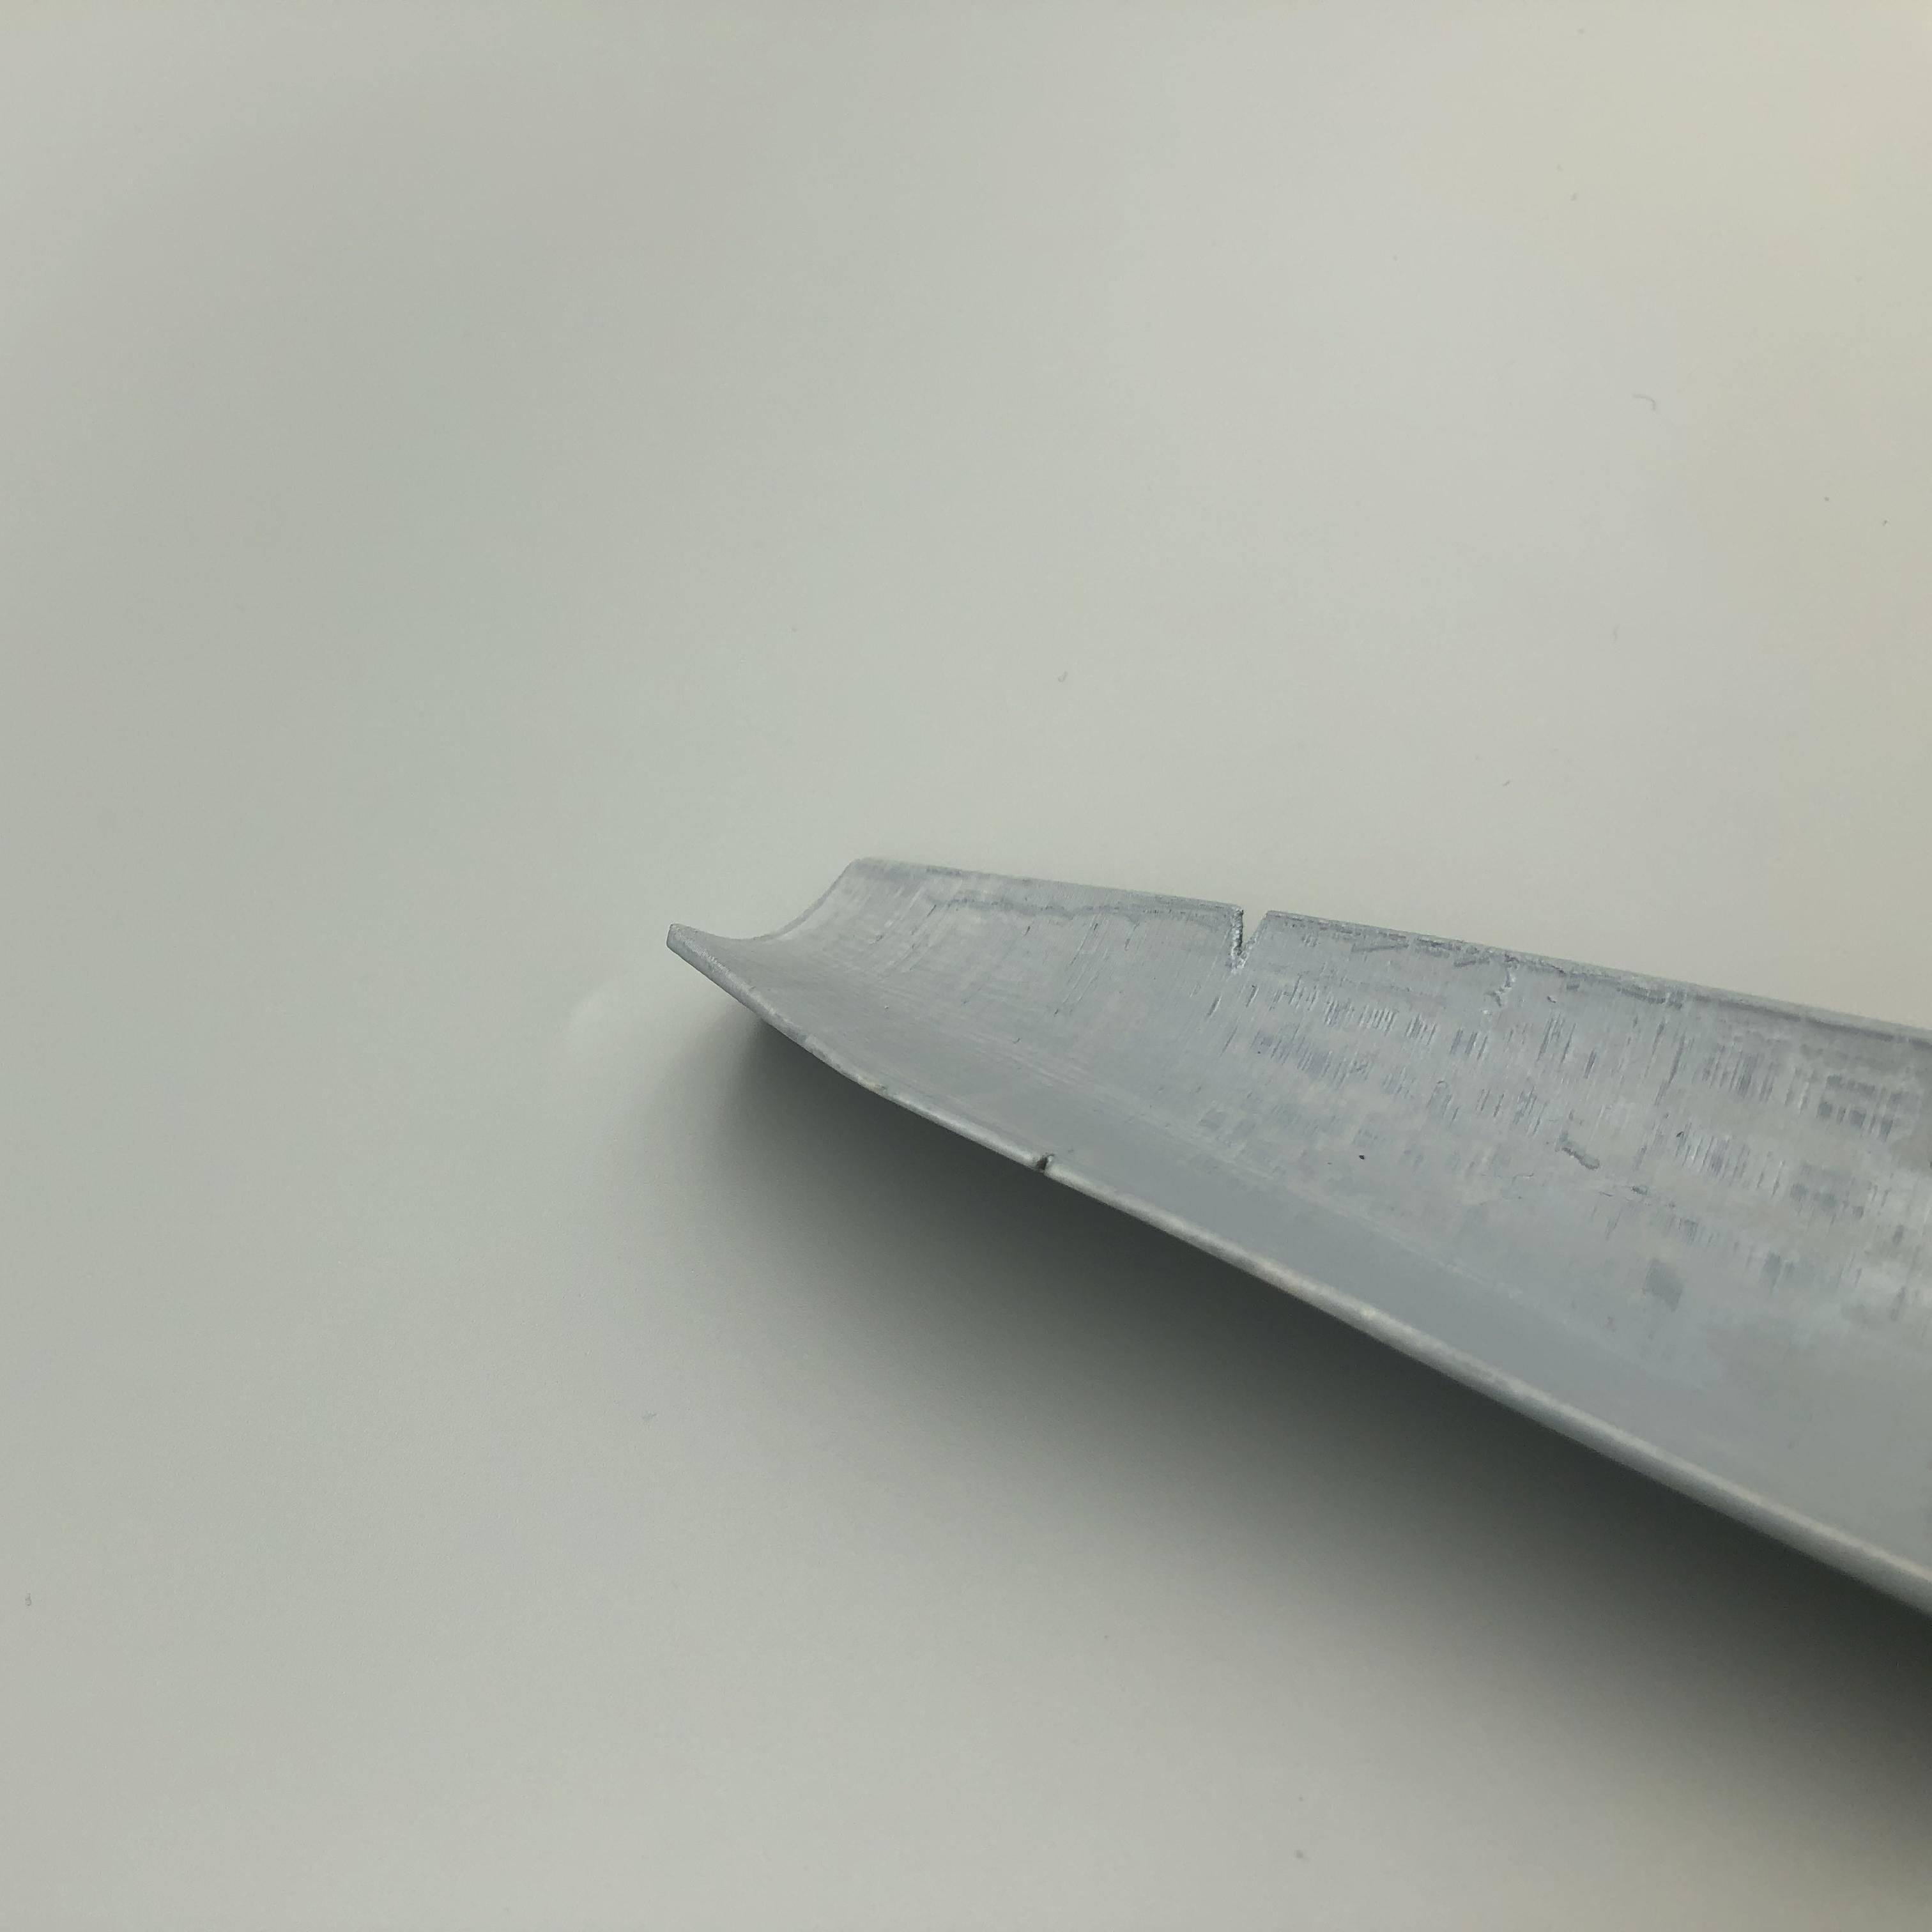groove: (1223, 904, 1283, 957), (1028, 1145, 1069, 1178)
